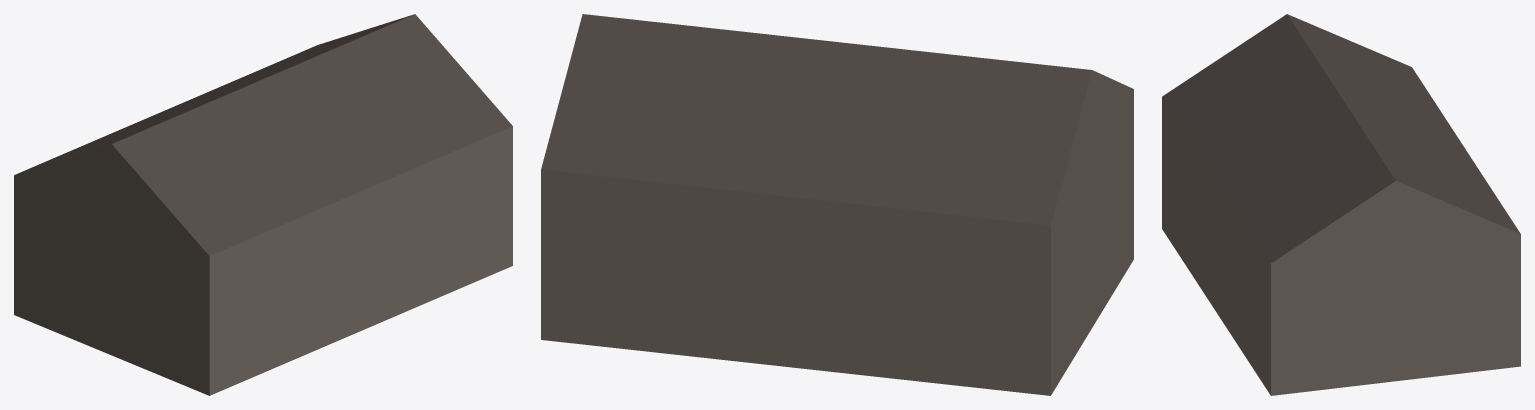
The picture shows the model from 3 angles, left to right: view 1: azimuth 30°, elevation 25°; view 2: azimuth 150°, elevation 25°; view 3: azimuth 270°, elevation 25°; orthographic projection. The views are drawn at different scales.
Parts seen in each view (by area): view 1: HP-w1376988741; view 2: HP-w1376988741; view 3: HP-w1376988741.
Part boxes in pixels (left/top/right/bottom): HP-w1376988741: left=14, top=14, right=512, bottom=395; HP-w1376988741: left=541, top=14, right=1133, bottom=395; HP-w1376988741: left=1162, top=14, right=1520, bottom=395.
Size of the model in its own units: 19.07 by 9.07 by 14.72.
